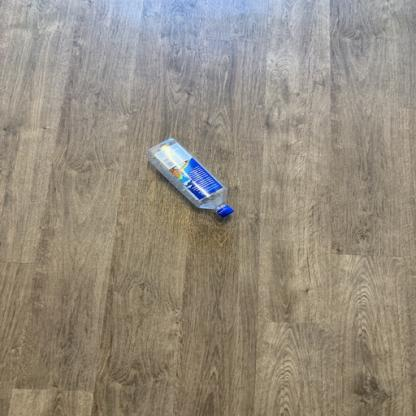trash: (143, 138, 238, 218)
